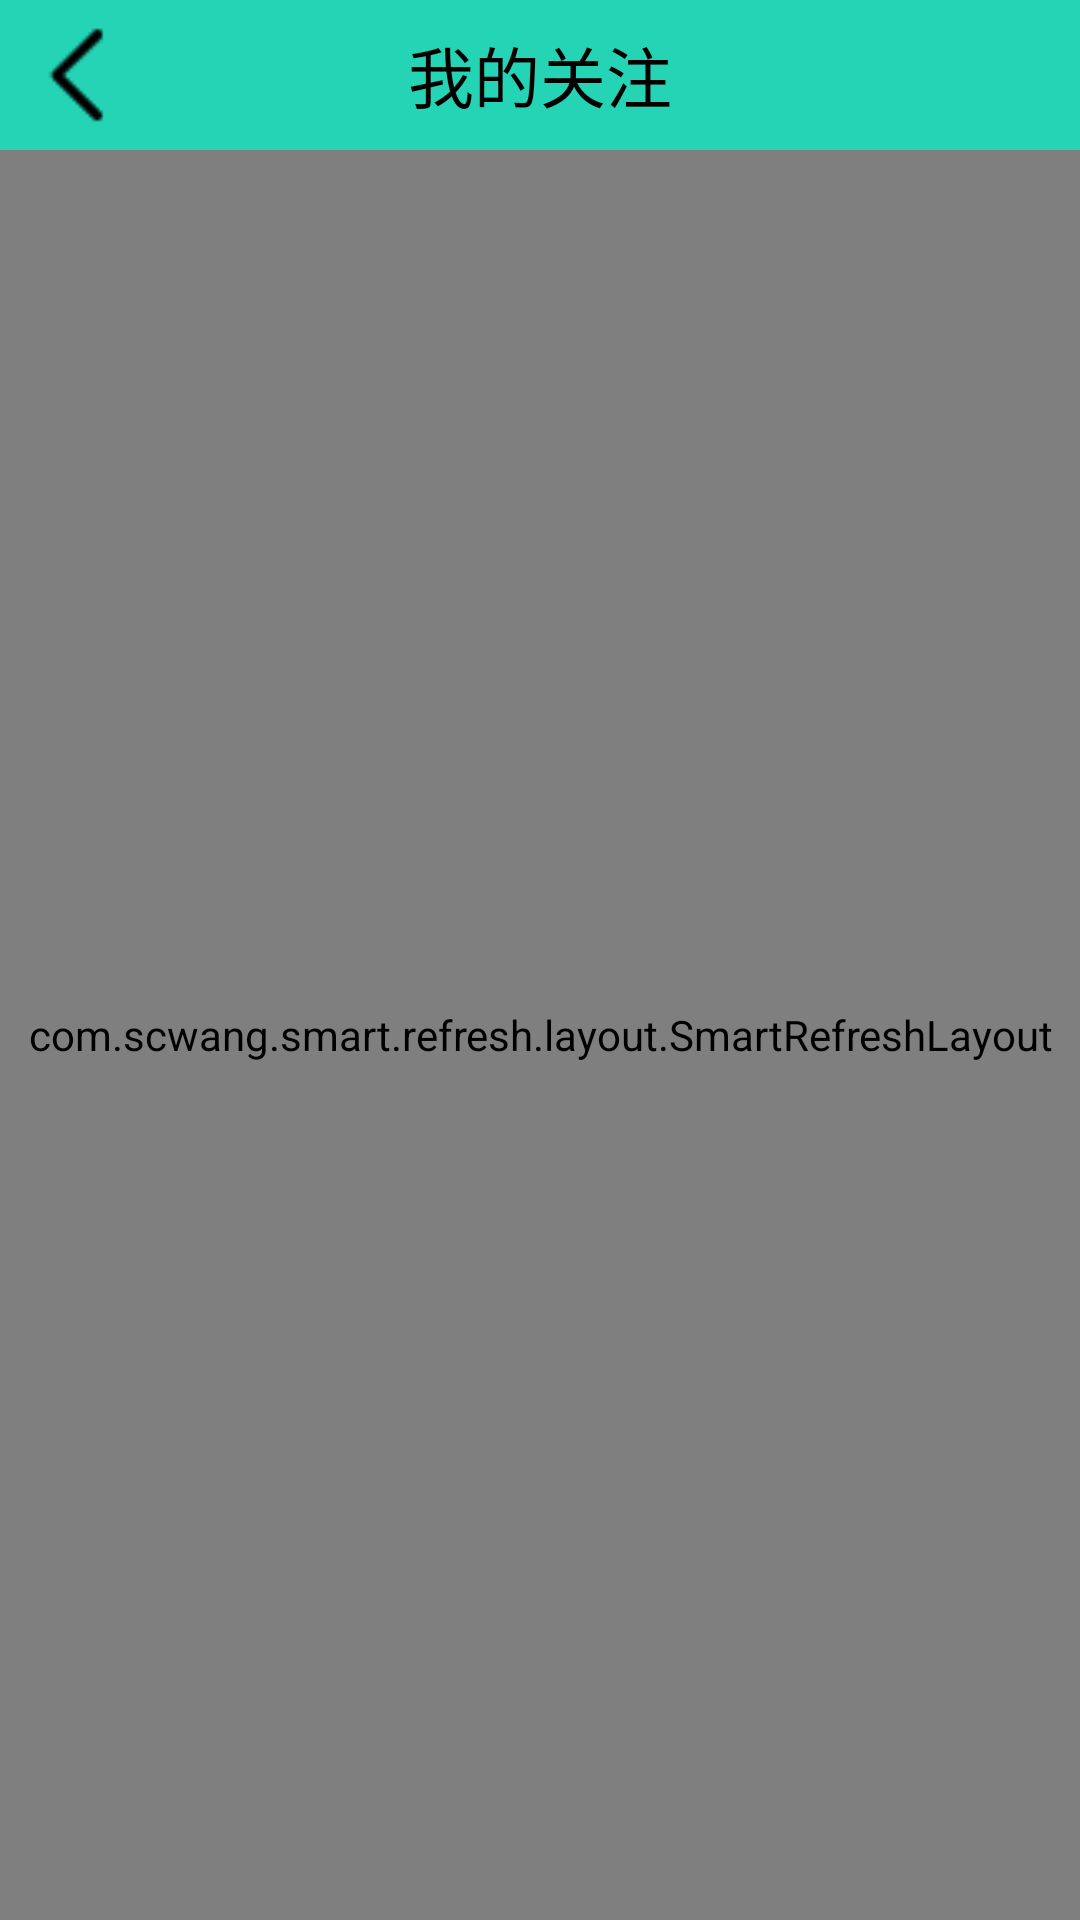

Screen size 1080 x 1920. Icon name, then its box in pixels as bbox(x1, y1, x2, y2):
back: bbox(49, 28, 103, 122)
